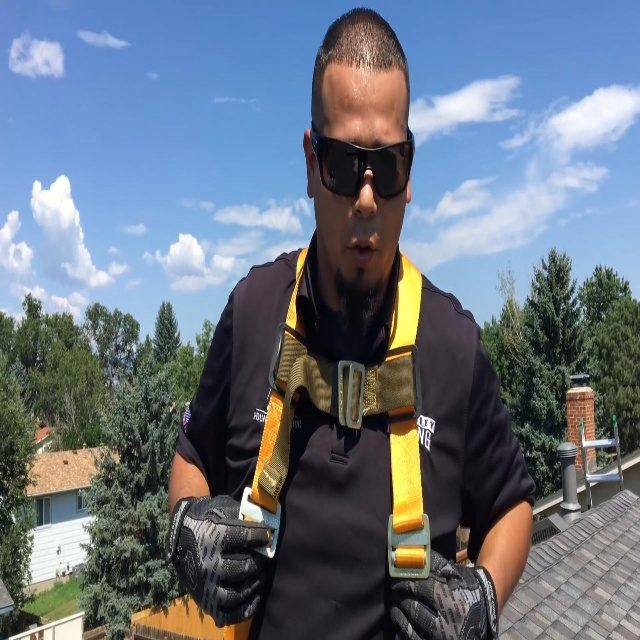Arnes_seguridad: (219, 223, 440, 640)
